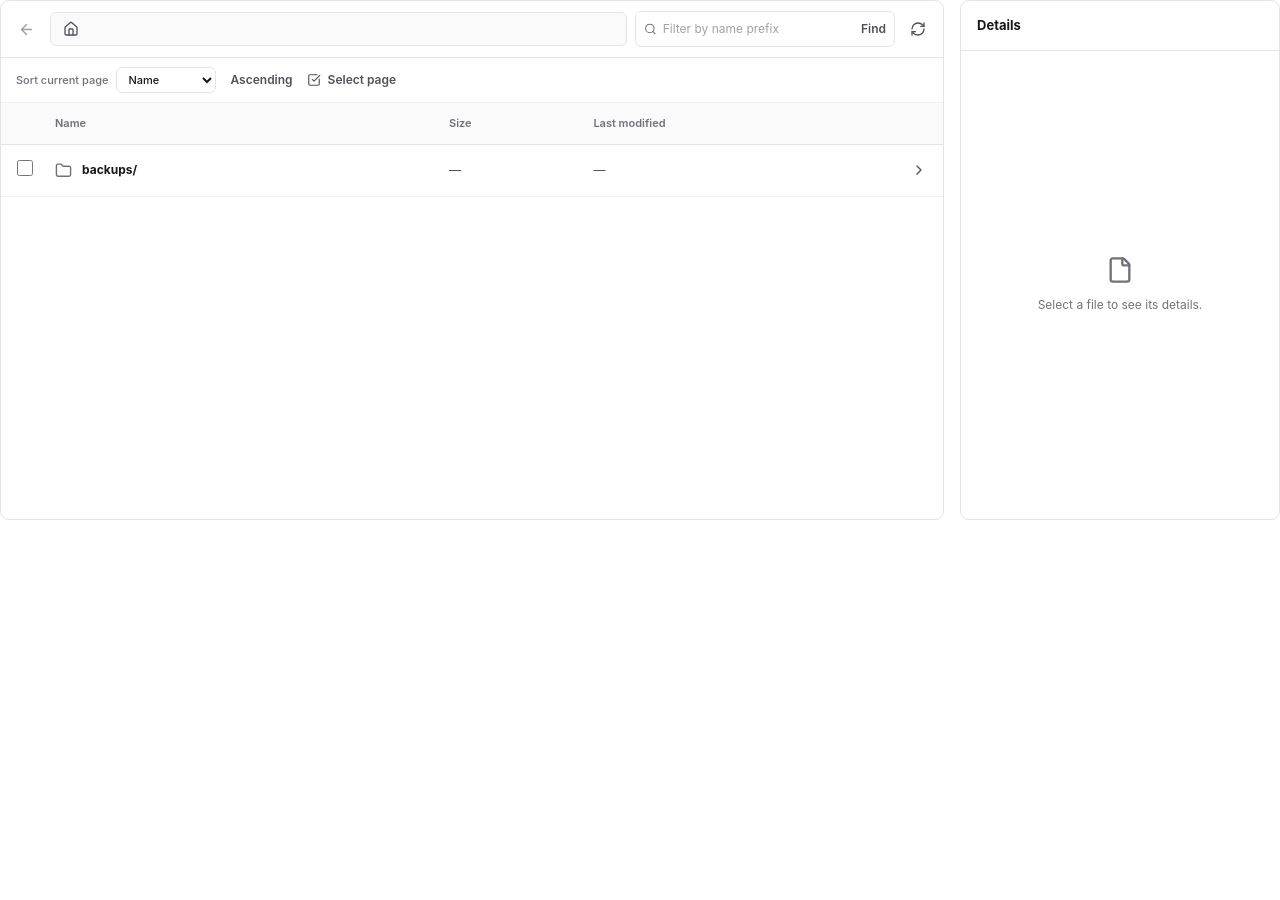
Test: failed scheduling presents the error without deleting objects
The width and height of the screenshot is (1280, 900).
Click the checkbox named "Select folder backups/": (25, 168) [17,160,33,176]
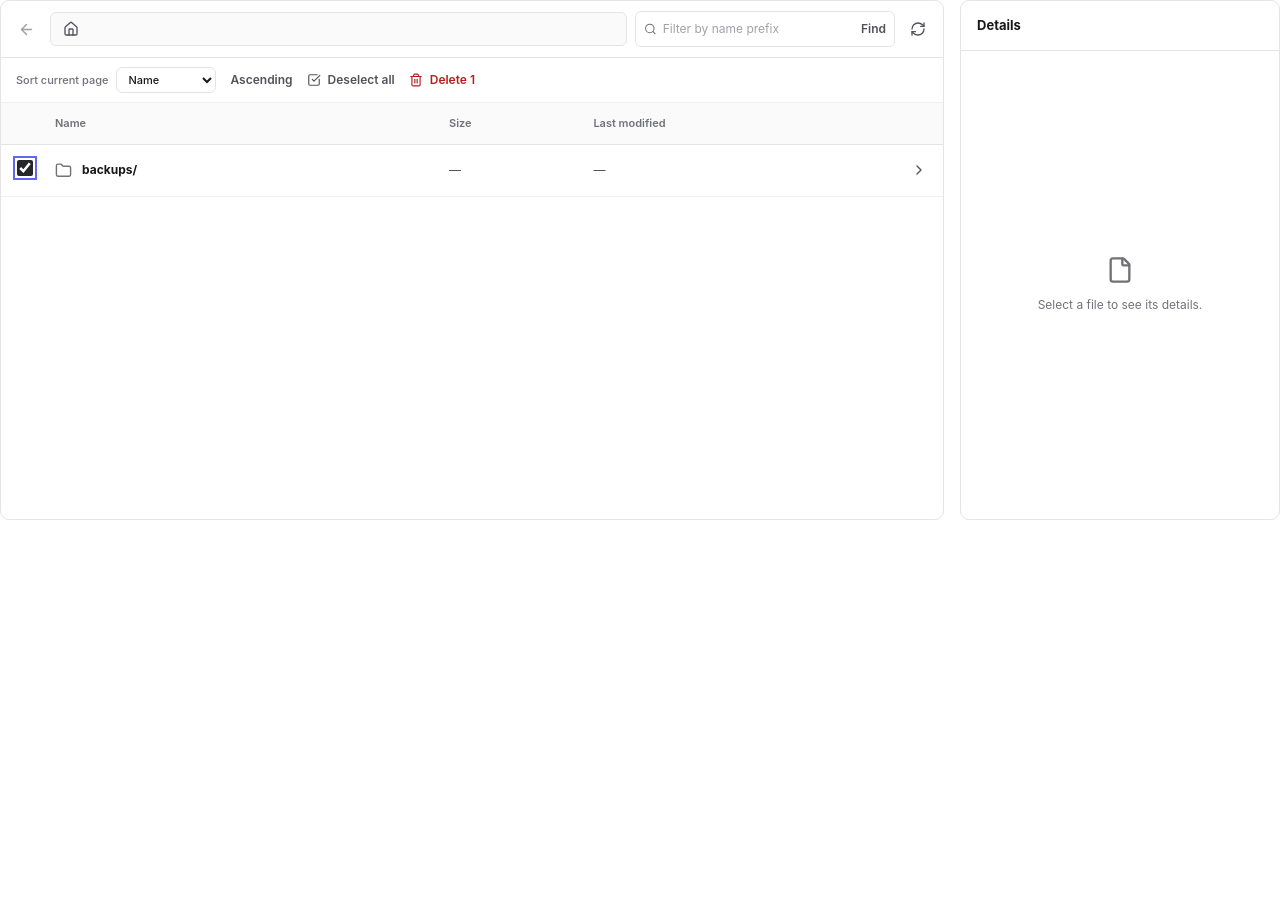
Click the button "Delete 1": (442, 80) [409,71,475,89]
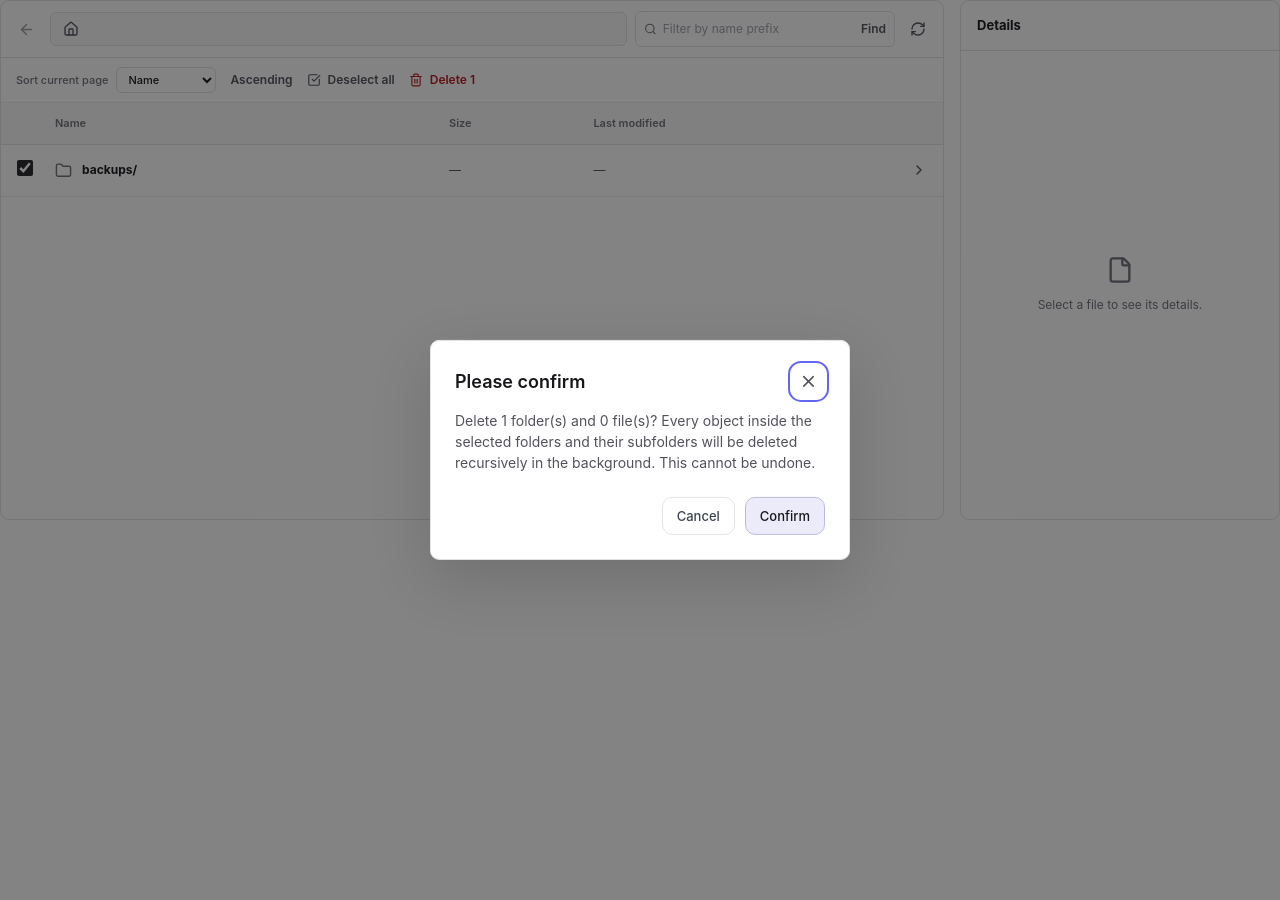
Click the button "Confirm": (785, 516) [745,497,825,535]
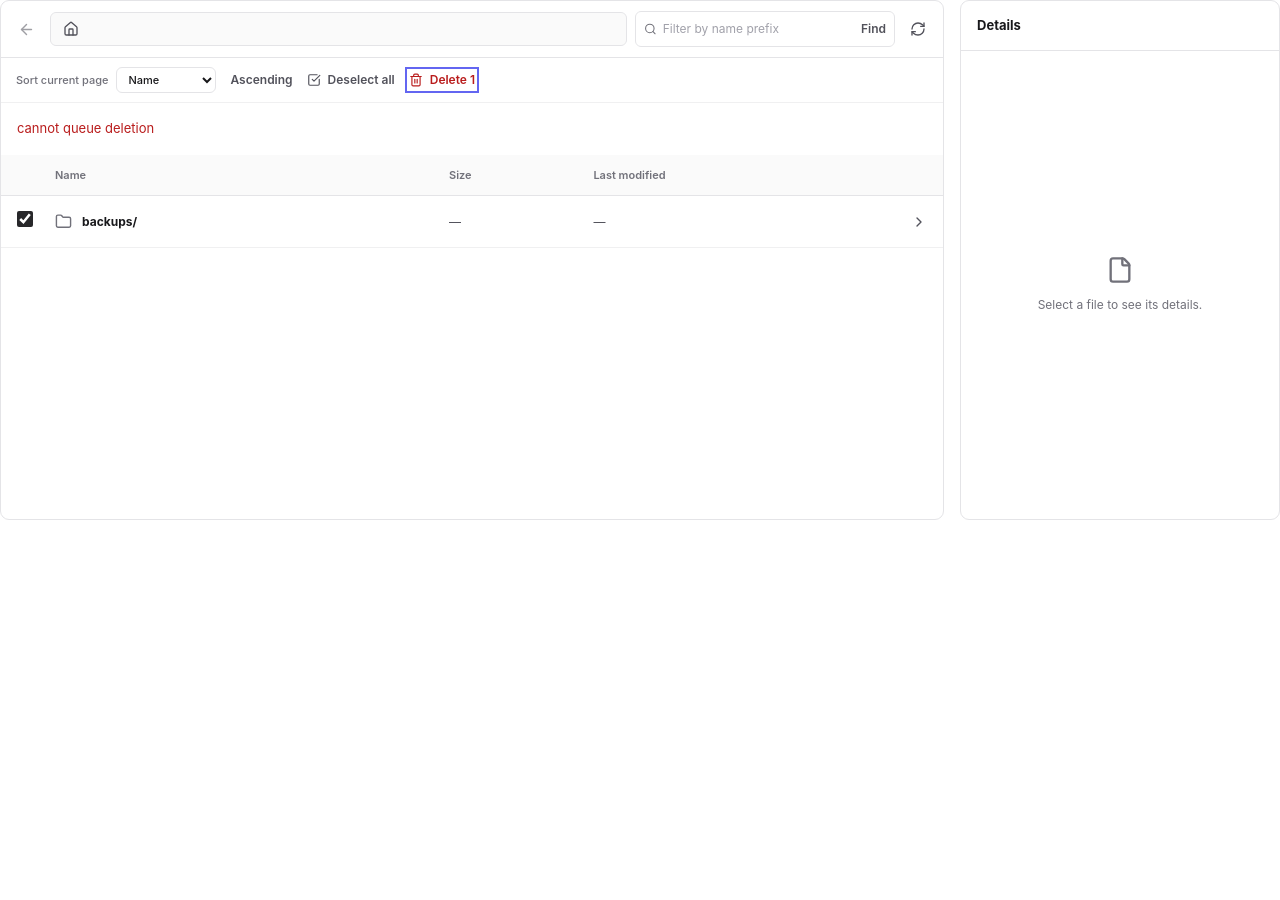
Now the message reads "cannot queue deletion", box [17,120,154,136]
